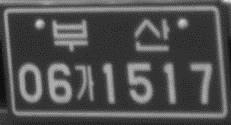0: (16, 61, 43, 104)
1: (99, 61, 118, 105), (162, 62, 181, 105)
5: (124, 60, 155, 105)
6: (45, 61, 74, 105)
7: (186, 61, 214, 107)
가: (74, 61, 96, 103)
부산_D: (50, 16, 172, 54)
